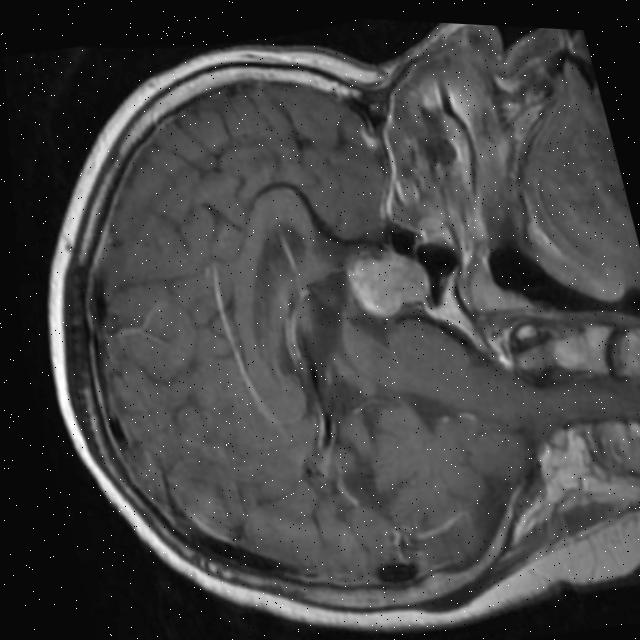Pituitary: (343, 243, 437, 326)
